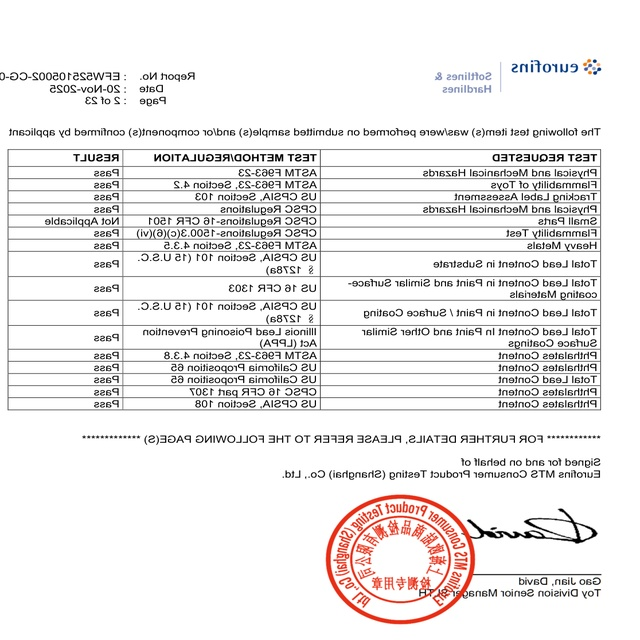eurofins: (507, 52, 605, 87)
